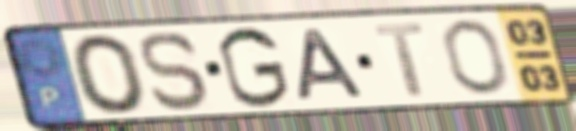A: (296, 25, 370, 104)
G: (213, 24, 293, 110)
O: (67, 31, 151, 117), (439, 17, 512, 97)
S: (137, 29, 216, 113)
T: (370, 20, 428, 100)
